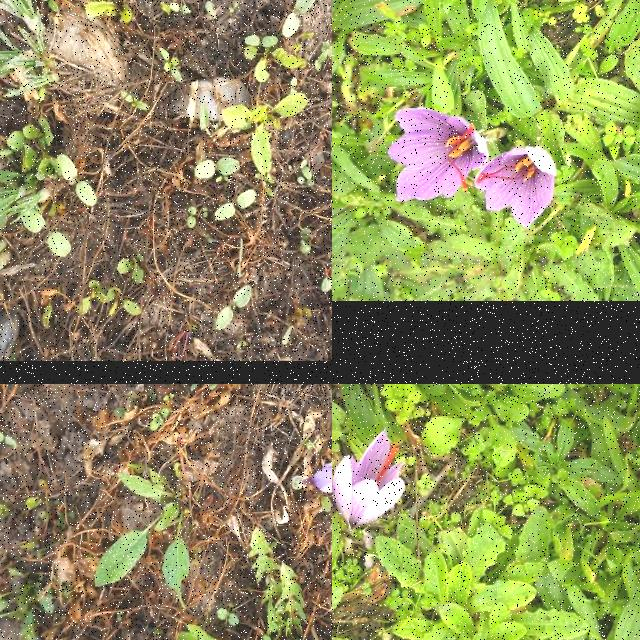flower: (386, 108, 489, 202), (332, 431, 406, 532), (474, 146, 556, 230), (309, 463, 332, 493)
